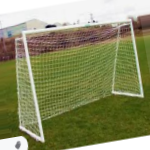goals: (14, 18, 145, 141)
